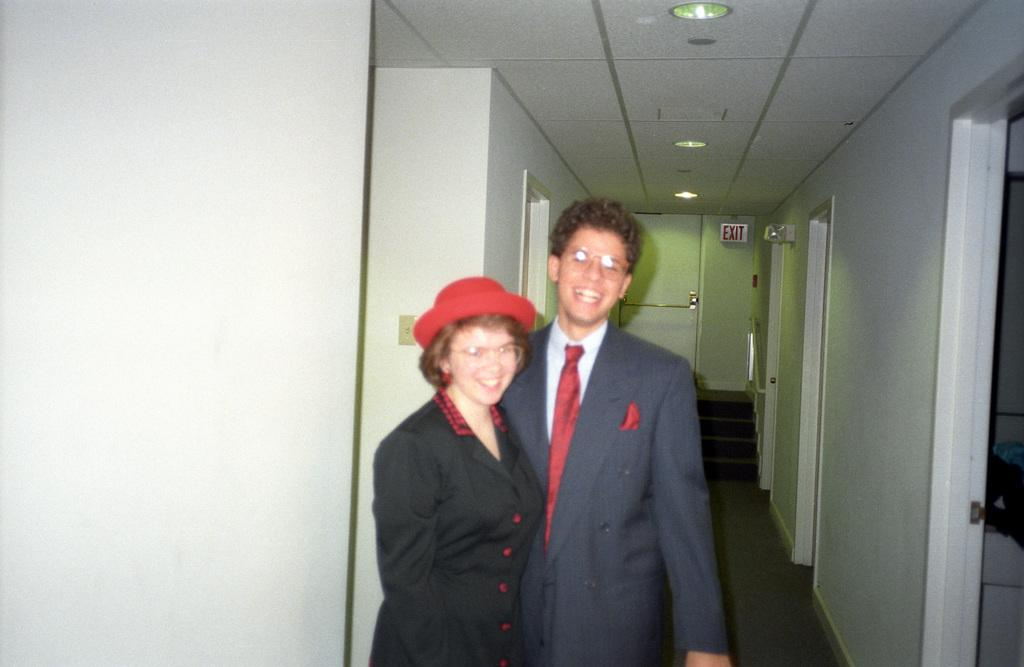Hat: (414, 276, 538, 348)
